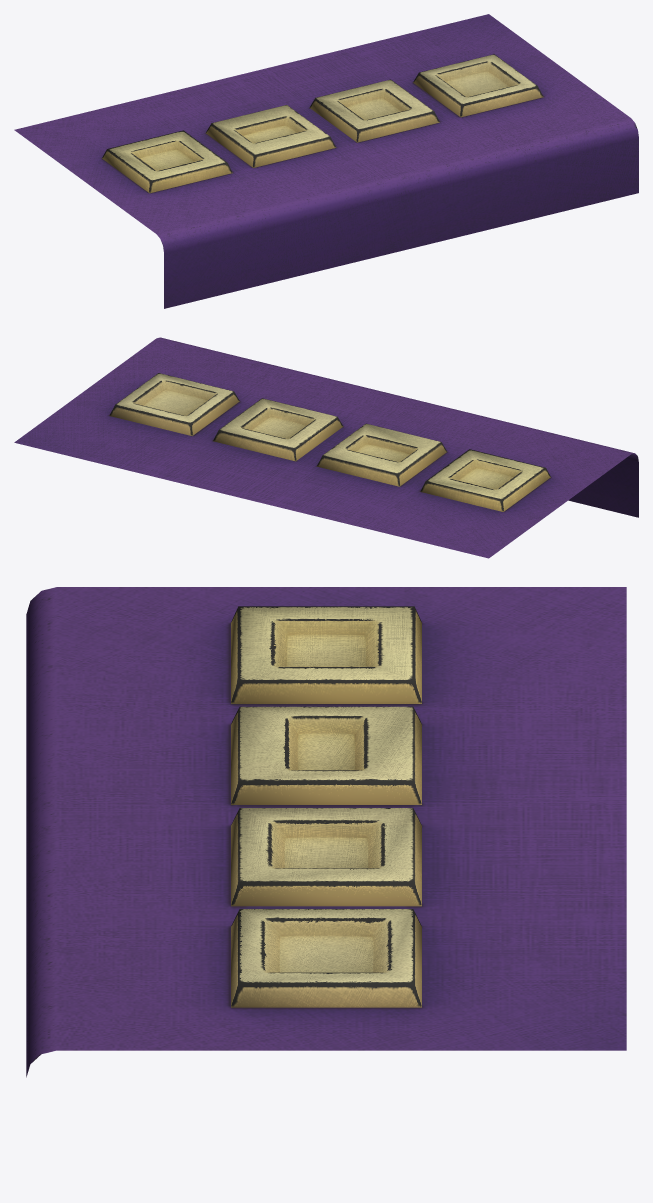
The model's file is Mantel.fbx.
The picture shows the model from 3 angles, top to bottom: view 1: azimuth 30°, elevation 25°; view 2: azimuth 150°, elevation 25°; view 3: azimuth 270°, elevation 25°; orthographic projection. The views are drawn at different scales.
Visible parts, largest first — view 1: Cube.030, Cube.036, Cube.037, Cube.035, Cube.031; view 2: Cube.030, Cube.037, Cube.035, Cube.036, Cube.031; view 3: Cube.030, Cube.036, Cube.037, Cube.035, Cube.031.
Boxes of the visible parts, x1,y1,x2,y2 form: Cube.030: (14,14,638,308); Cube.036: (309,79,439,142); Cube.037: (413,54,543,117); Cube.035: (206,105,336,167); Cube.031: (102,130,232,193); Cube.030: (14,337,638,558); Cube.037: (109,373,239,435); Cube.035: (317,423,447,486); Cube.036: (213,398,343,461); Cube.031: (420,449,550,511); Cube.030: (26,587,626,1077); Cube.036: (231,808,421,906); Cube.037: (231,909,421,1007); Cube.035: (231,706,421,804); Cube.031: (231,606,421,703).
Size of the model in its own units: 375 by 60.11 by 205.
